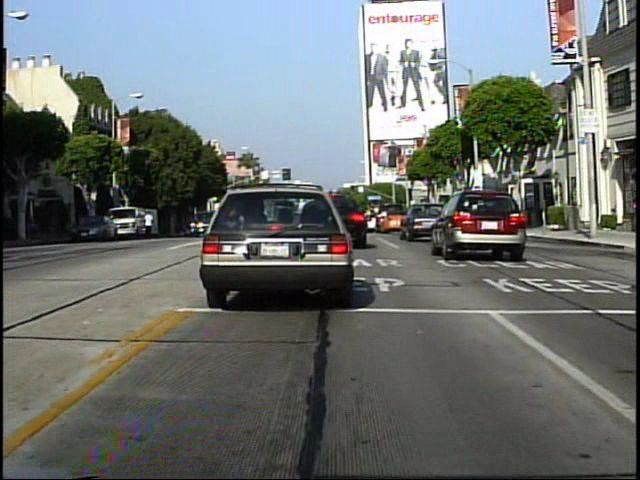person: (144, 208, 157, 243)
